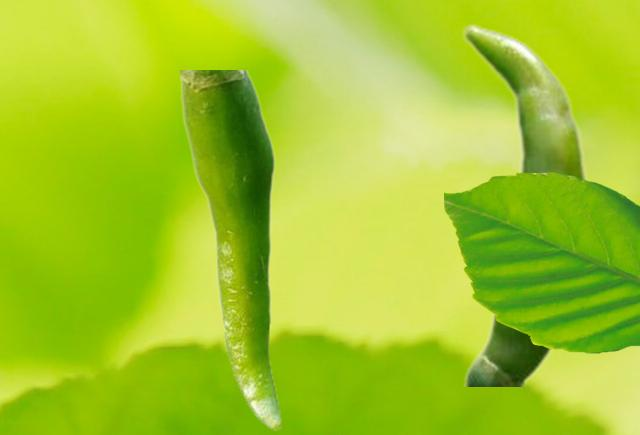green_chili: (460, 22, 590, 385), (180, 70, 280, 429)
